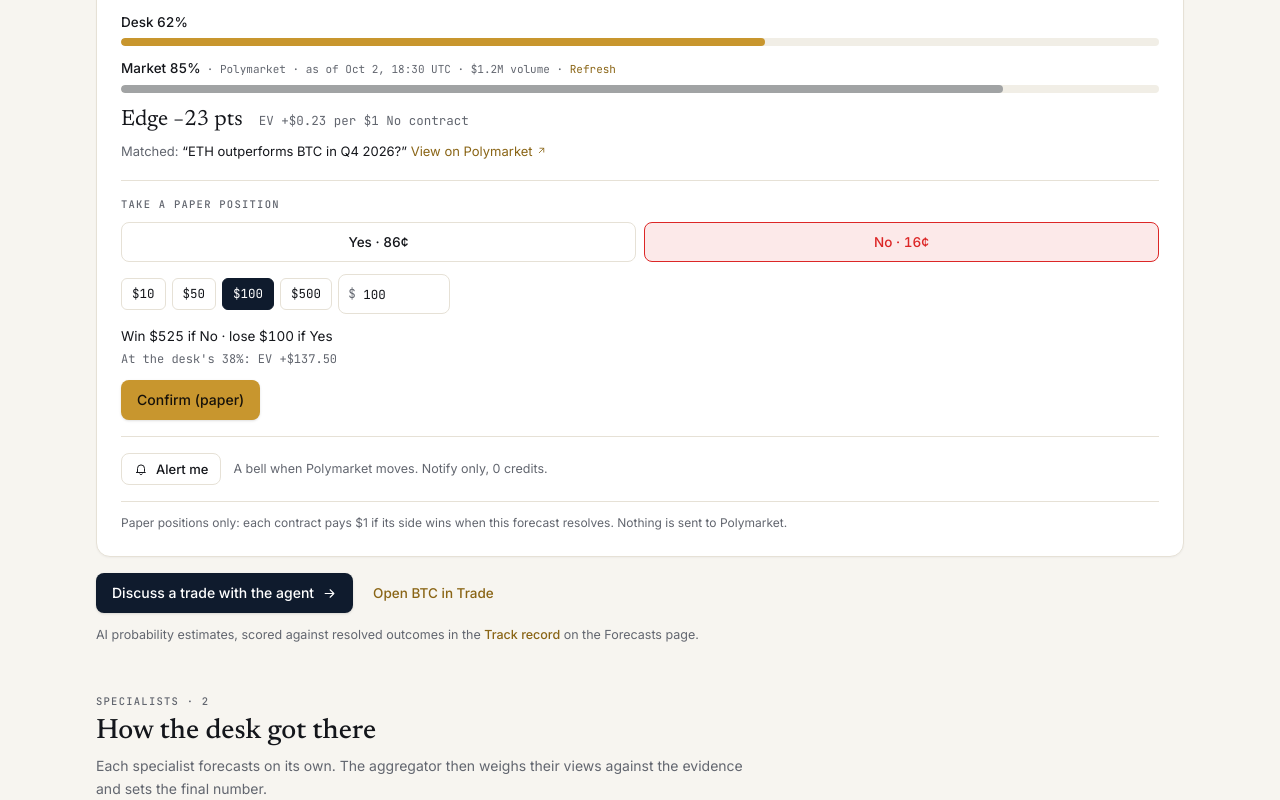
Test: DeskVsMarket · Take a paper position › toasts a refusal
(page scrolled)
Click the button "Confirm (paper)" at (191, 400), box [121, 380, 260, 420]
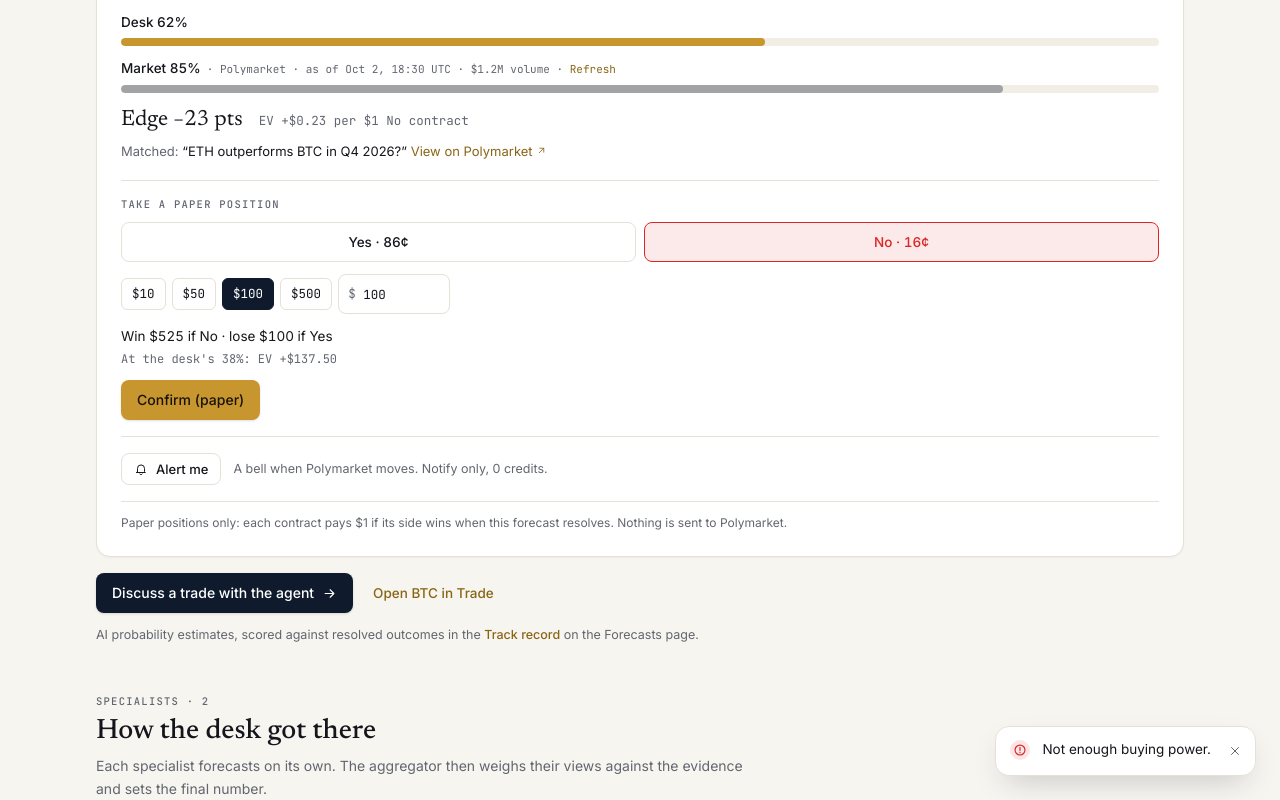
Result: the message reads "Not enough buying power." at [1042, 741, 1211, 757]
